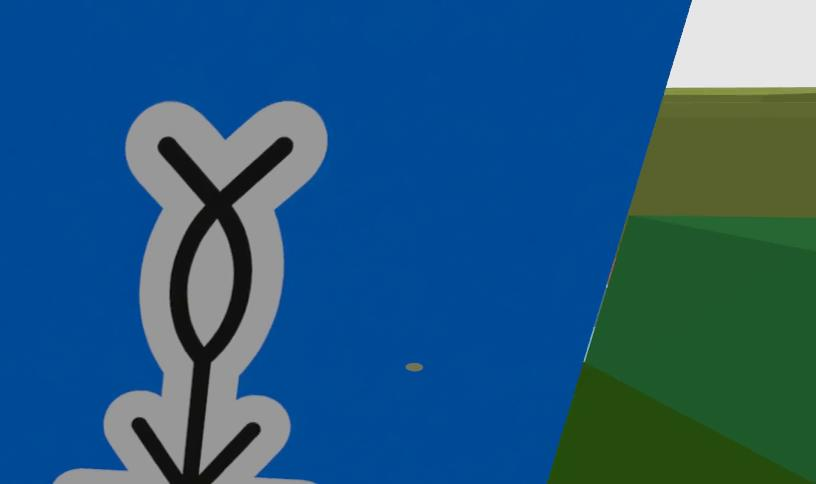KFS_REAL: (0, 0, 689, 484), (53, 102, 325, 484)
